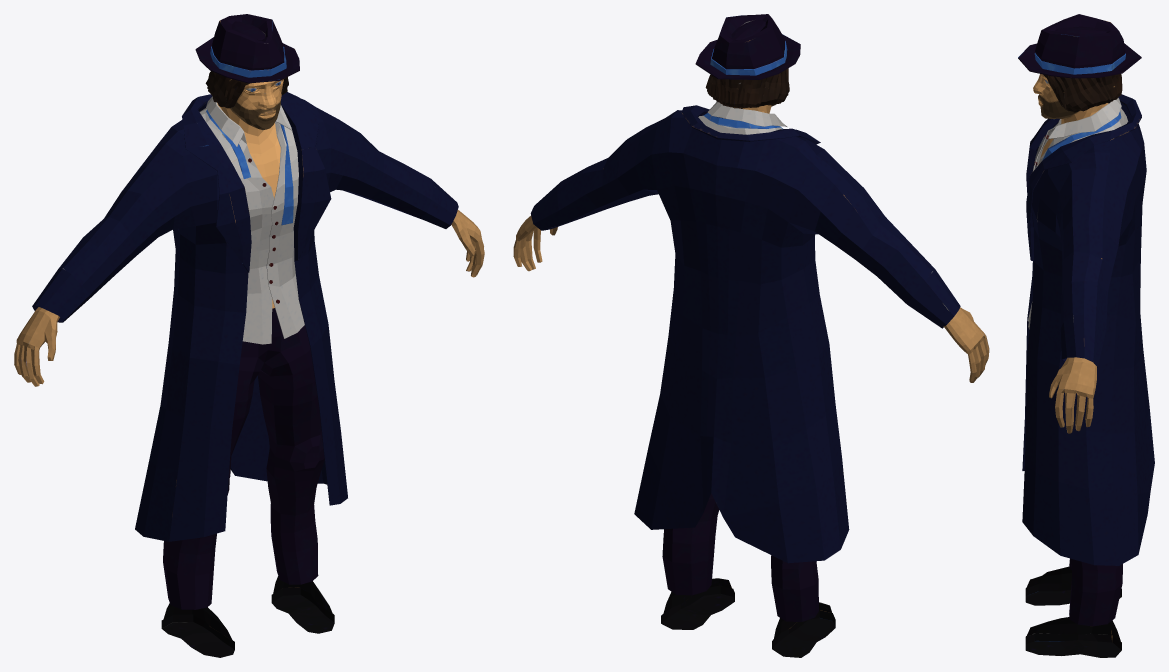
File: Protag.glb
3 views of the same model, side by side, from view 1: azimuth 30°, elevation 25°; view 2: azimuth 150°, elevation 25°; view 3: azimuth 270°, elevation 25° (orthographic).
Parts seen in each view (by area): view 1: Main Character VIP; view 2: Main Character VIP; view 3: Main Character VIP.
Part boxes in pixels (<box>): Main Character VIP: <box>14,14,484,657</box>; Main Character VIP: <box>513,14,989,657</box>; Main Character VIP: <box>1018,14,1154,657</box>.
Size of the model in its own units: 148 by 185 by 38.33.
Materials: 1 (1 with a texture image).
